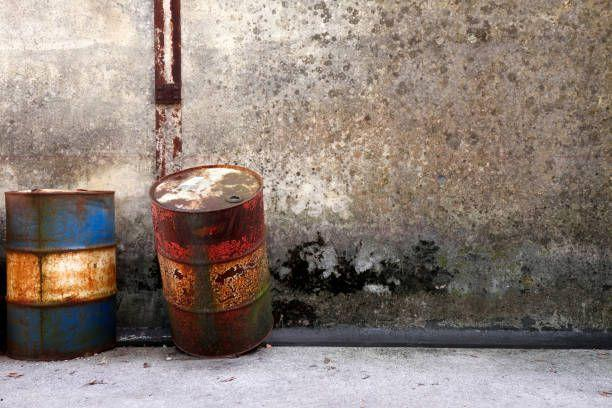metal: (148, 160, 269, 360), (0, 182, 122, 364)
